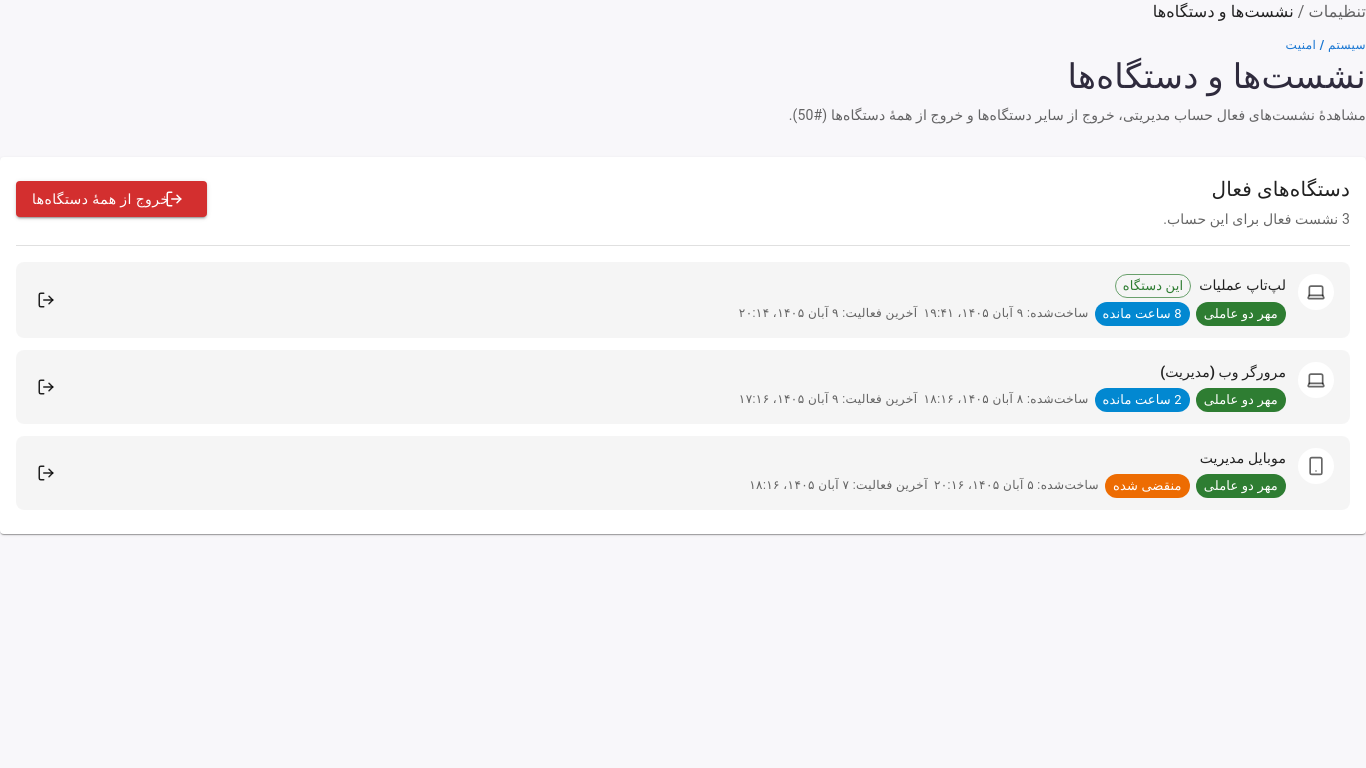
SessionManagementPage › keeps the current row visible without a regression to an empty list
This screenshot has width=1366, height=768.
Expected: the heading "لپ‌تاپ عملیات" is shown, [1199,275,1286,297]
Click the button named "خروج از دستگاه مرورگر وب (مدیریت)". click: (46, 387)
box: [32,373,60,401]
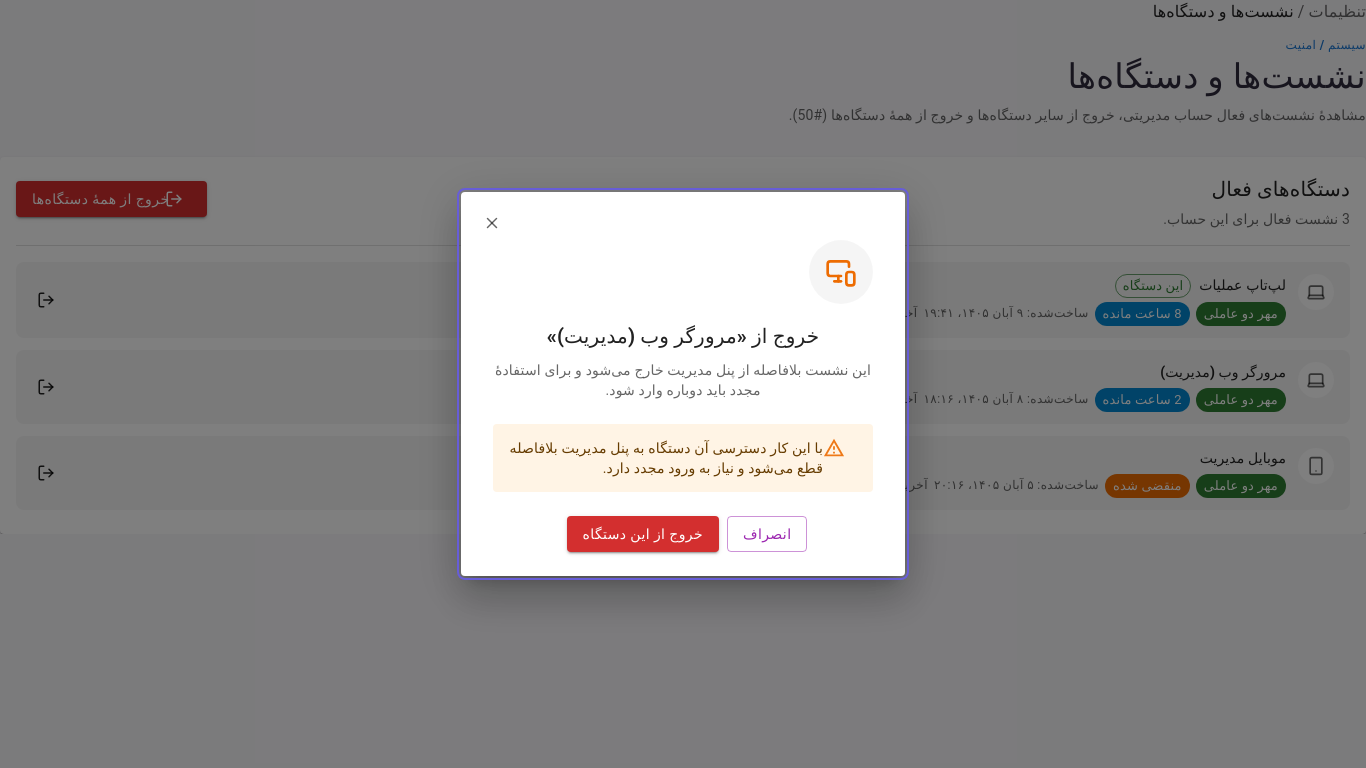
Click the button "خروج از این دستگاه". click: (643, 534)
box: [566,516,719,552]
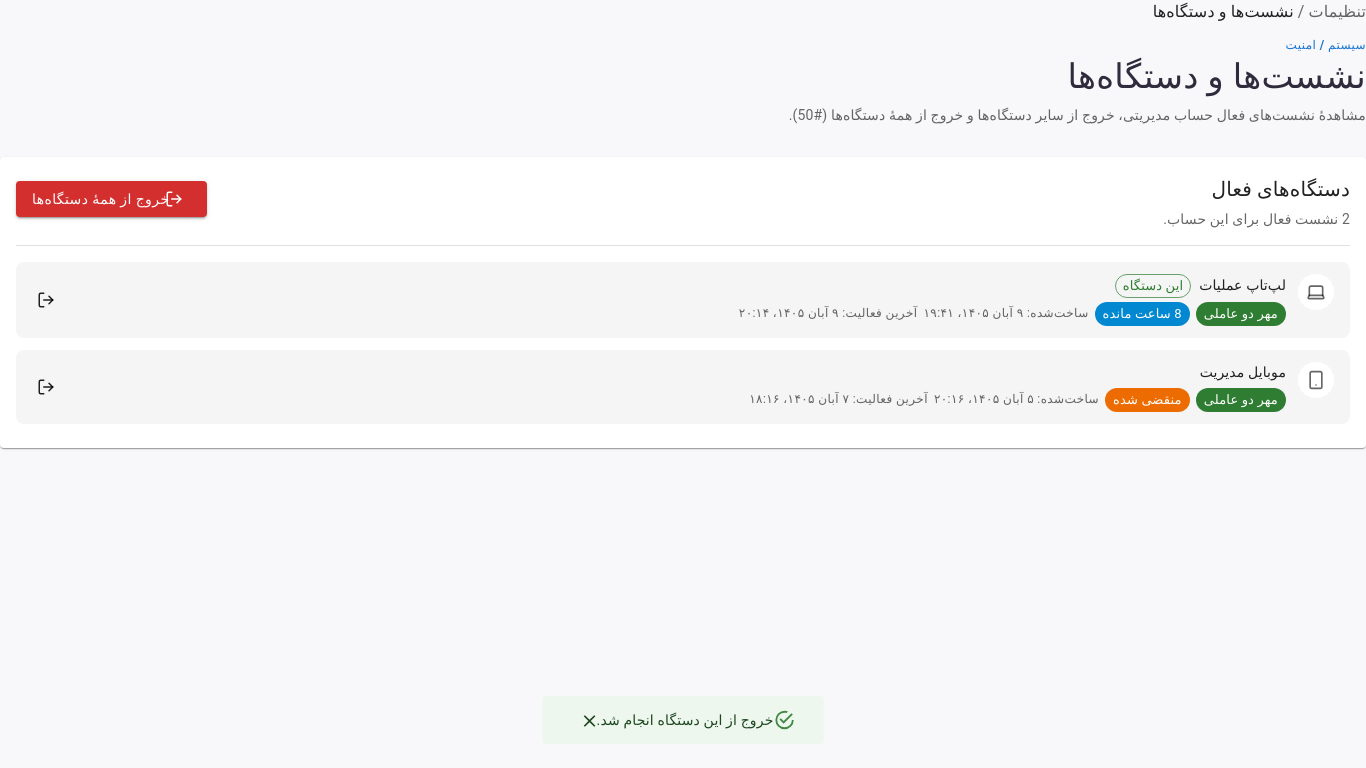
Expected: the heading "لپ‌تاپ عملیات" is shown, [1199,275,1286,297]
Expected: the list item with test id "session-row-fixture-session-web" is gone
Expected: the text "2 نشست فعال برای این حساب." is shown, [1163,209,1350,229]
